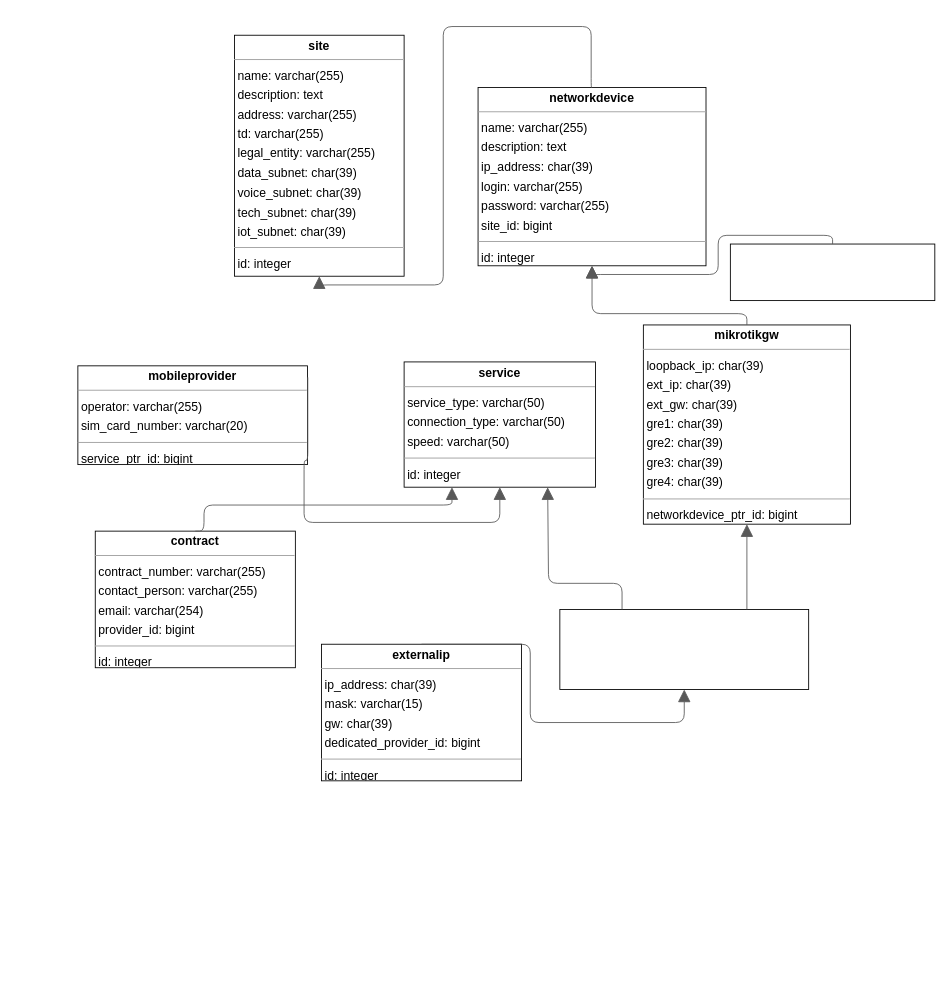
This 950x987 diagram has some shape labels left out. Each missing label, with the centre of its shape:
"dedicatedprovider gateway_id: bigint service_ptr_id: bigint" goes at pixel 684 649.
"mikrotiklte networkdevice_ptr_id: bigint" goes at pixel 832 272.
